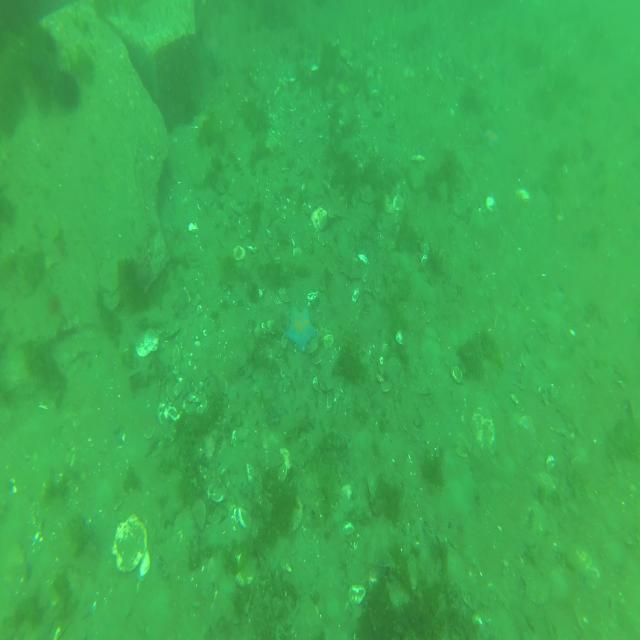echinus: (52, 61, 81, 113)
starfish: (283, 303, 320, 353), (478, 123, 503, 150)
